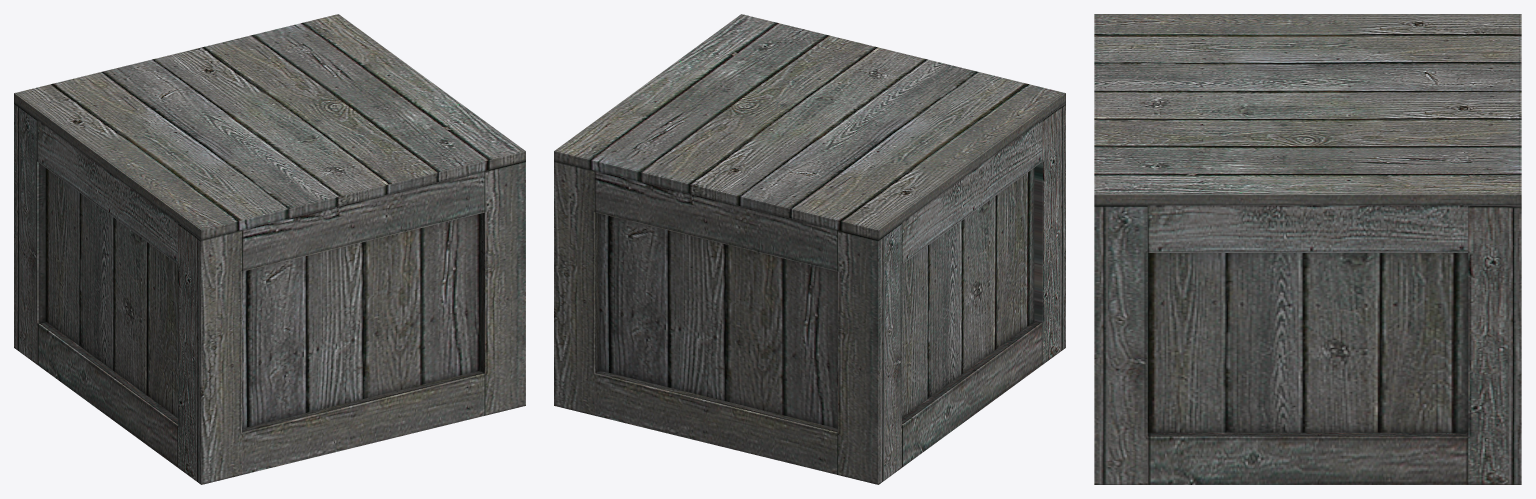
The model's file is crate_small.FBX.
3 views of the same model, side by side, from view 1: azimuth 30°, elevation 25°; view 2: azimuth 150°, elevation 25°; view 3: azimuth 270°, elevation 25° (orthographic). The views are drawn at different scales.
Parts seen in each view (by area): view 1: crate_small; view 2: crate_small; view 3: crate_small.
Boxes of the visible parts, <box> form: crate_small: <box>14,14,525,484</box>; crate_small: <box>554,14,1065,484</box>; crate_small: <box>1094,14,1521,484</box>.
Size of the model in its own units: 0.4 by 0.3 by 0.4.
1 material, 1 textured.
